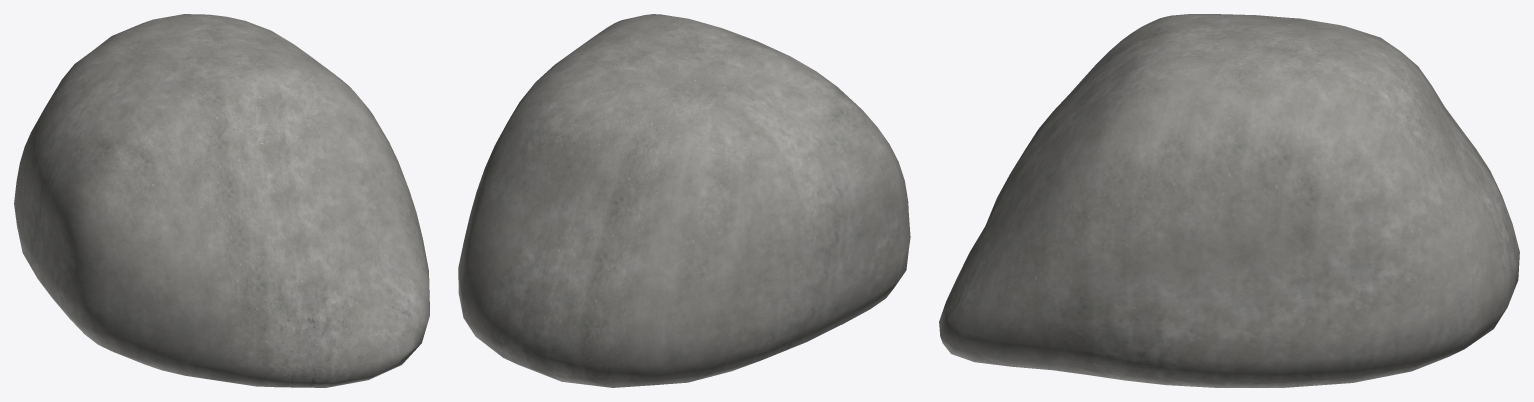
The model's file is Bug_Enviro_rock1.fbx.
3 renders of one model, left to right at view 1: azimuth 30°, elevation 25°; view 2: azimuth 150°, elevation 25°; view 3: azimuth 270°, elevation 25°, orthographic. The views are drawn at different scales.
Visible parts, largest first — view 1: pCube1; view 2: pCube1; view 3: pCube1.
Boxes of the visible parts, <box> form: pCube1: <box>14,14,429,387</box>; pCube1: <box>458,14,910,387</box>; pCube1: <box>939,14,1519,387</box>.
Size of the model in its own units: 3.62 by 2.75 by 4.82.
1 material, 1 textured.
